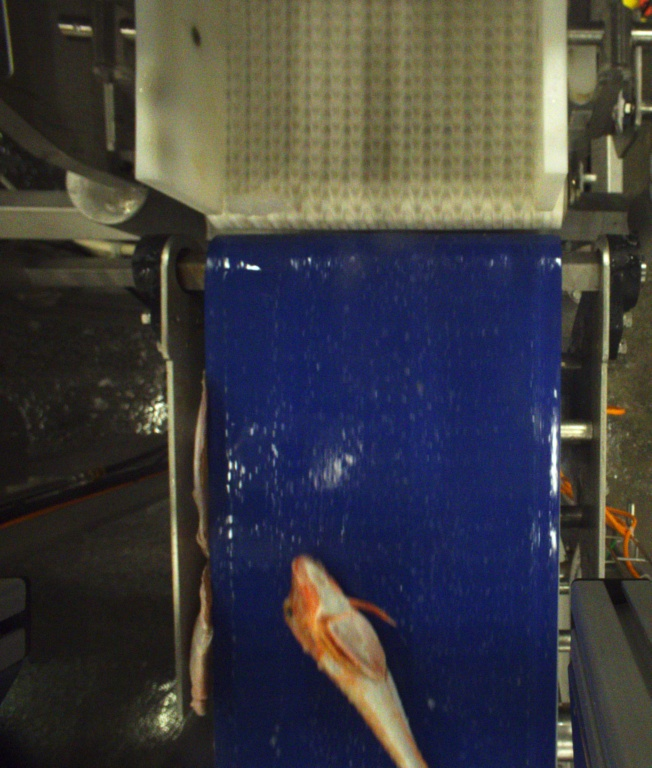GUU: (280, 553, 431, 768)
